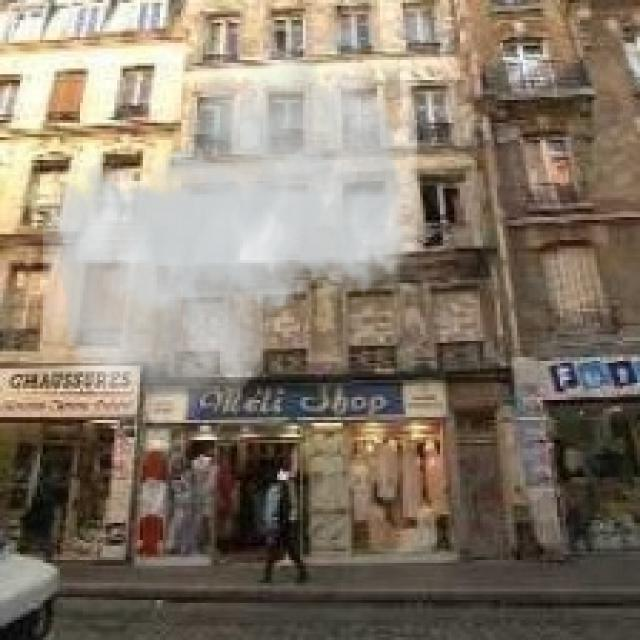Smoke: (42, 29, 418, 428)
